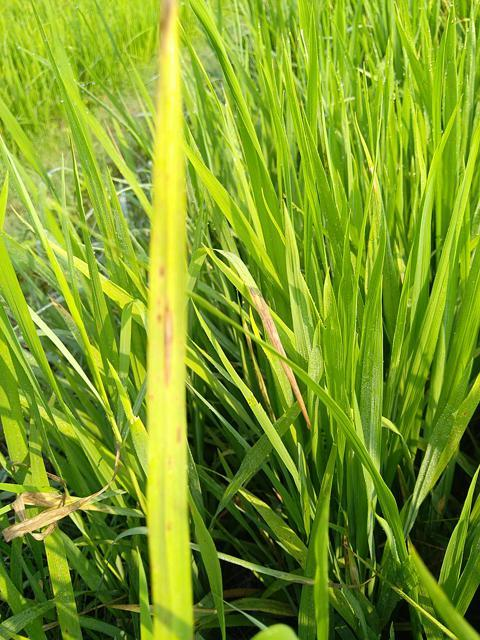Leaf Streak: (148, 0, 188, 539)
